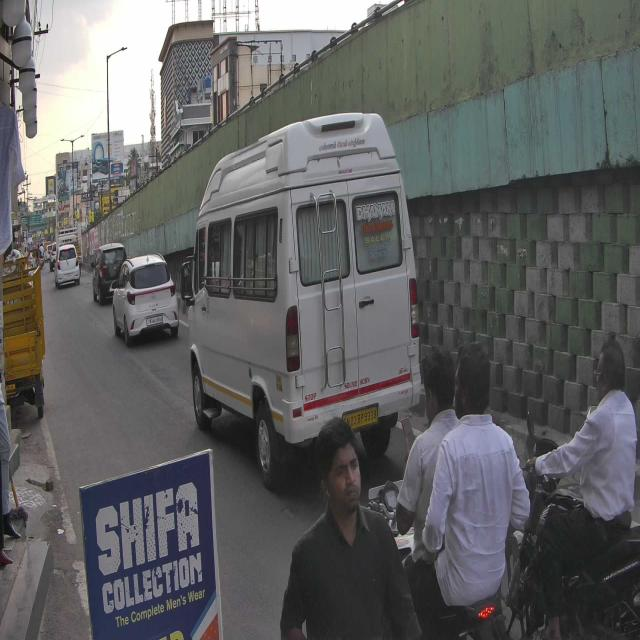double_rider: (372, 330, 530, 640)
single_rider: (532, 338, 640, 640)
